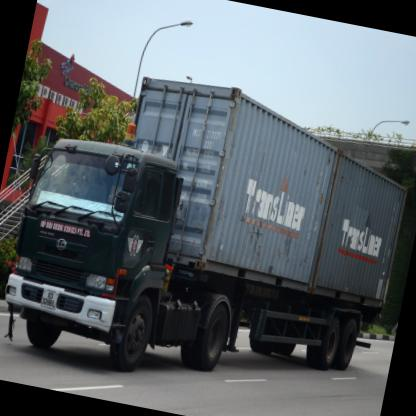truck: (1, 129, 193, 377)
